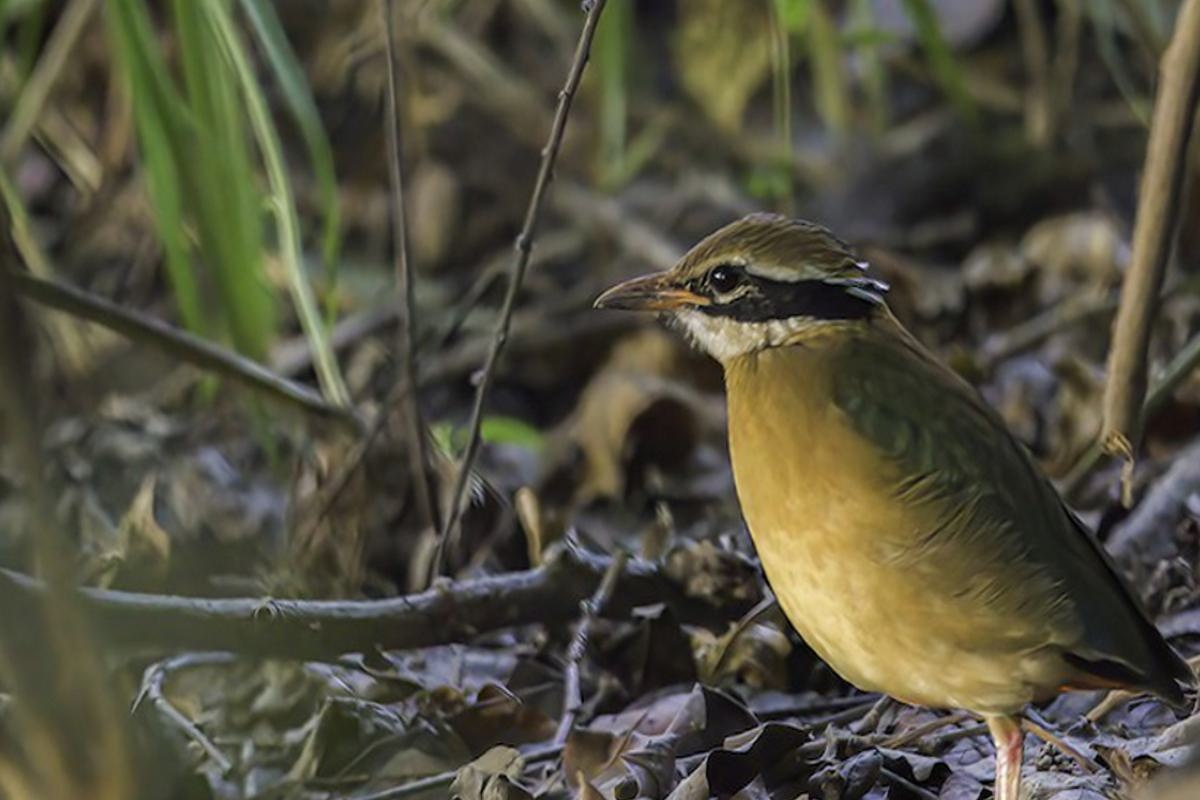pitta: (555, 183, 1121, 785)
